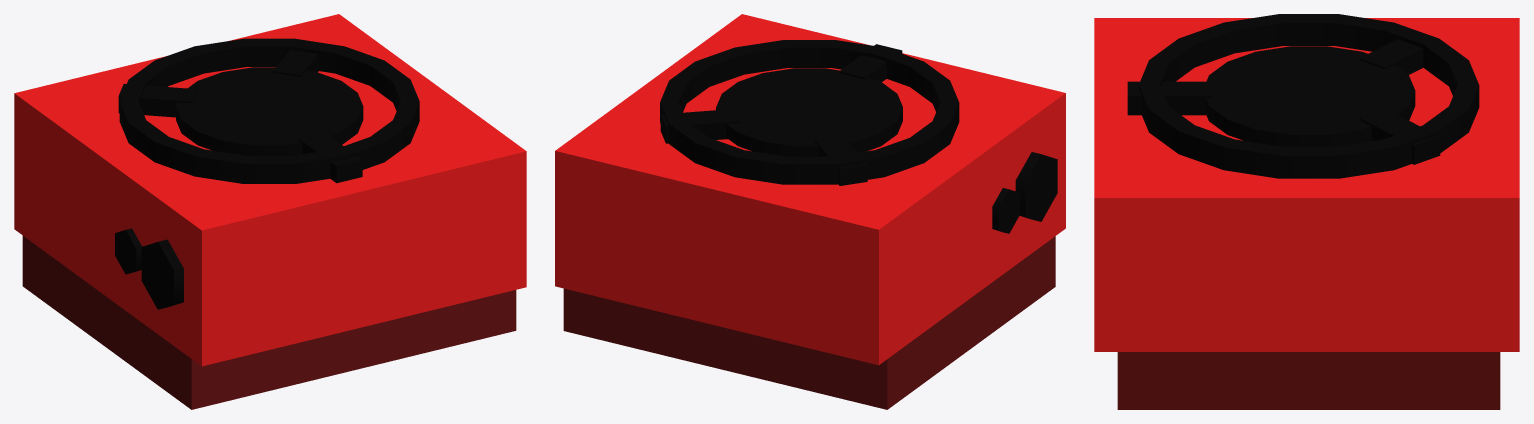
Rendered from fogon.fbx.
3 views of the same model, side by side, from view 1: azimuth 30°, elevation 25°; view 2: azimuth 150°, elevation 25°; view 3: azimuth 270°, elevation 25° (orthographic). The views are drawn at different scales.
Visible parts, largest first — view 1: Box3290, Box3289, Tube001, Tube002, Tube003, Box3293, Box3291, Tube004, Box3292; view 2: Box3290, Box3289, Tube001, Tube002, Tube003, Box3292, Box3293, Tube004, Box3291; view 3: Box3290, Tube001, Box3289, Tube002, Box3291, Box3292, Box3293.
Part boxes in pixels (x1,y1,x2,y2): Box3290: [14, 14, 526, 366]; Box3289: [22, 235, 516, 409]; Tube001: [119, 38, 419, 183]; Tube002: [176, 67, 363, 155]; Tube003: [141, 239, 183, 309]; Box3293: [118, 83, 197, 117]; Box3291: [299, 132, 362, 183]; Tube004: [115, 228, 141, 274]; Box3292: [272, 50, 318, 76]; Box3290: [555, 14, 1065, 365]; Box3289: [563, 236, 1055, 409]; Tube001: [660, 40, 959, 184]; Tube002: [716, 68, 902, 156]; Tube003: [1015, 152, 1057, 221]; Box3292: [660, 109, 739, 143]; Box3293: [814, 135, 867, 185]; Tube004: [992, 188, 1019, 233]; Box3291: [839, 44, 902, 81]; Box3290: [1094, 18, 1519, 351]; Tube001: [1138, 14, 1479, 178]; Box3289: [1117, 352, 1500, 409]; Tube002: [1205, 46, 1415, 146]; Box3291: [1127, 81, 1212, 115]; Box3292: [1359, 109, 1440, 164]; Box3293: [1359, 39, 1423, 74].
Size of the model in its own units: 40.55 by 24.02 by 39.37.
